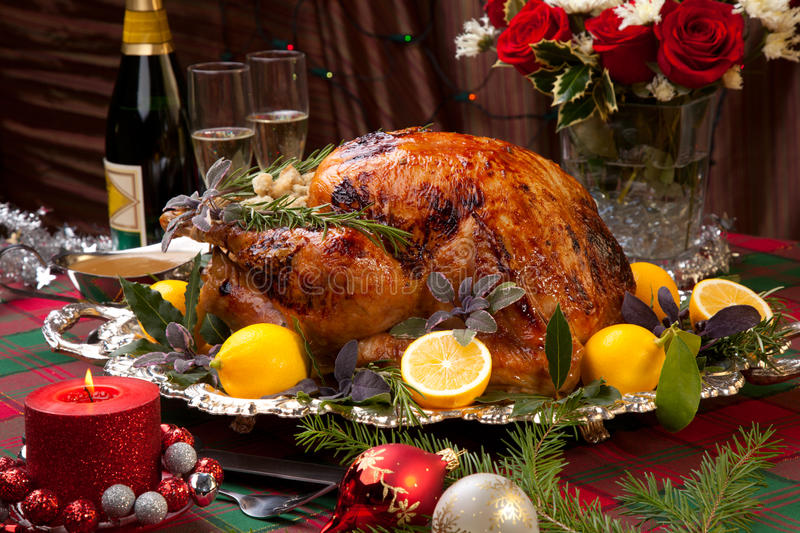RedRose: (647, 0, 744, 105), (495, 0, 576, 85), (583, 0, 661, 85), (473, 0, 522, 36)
